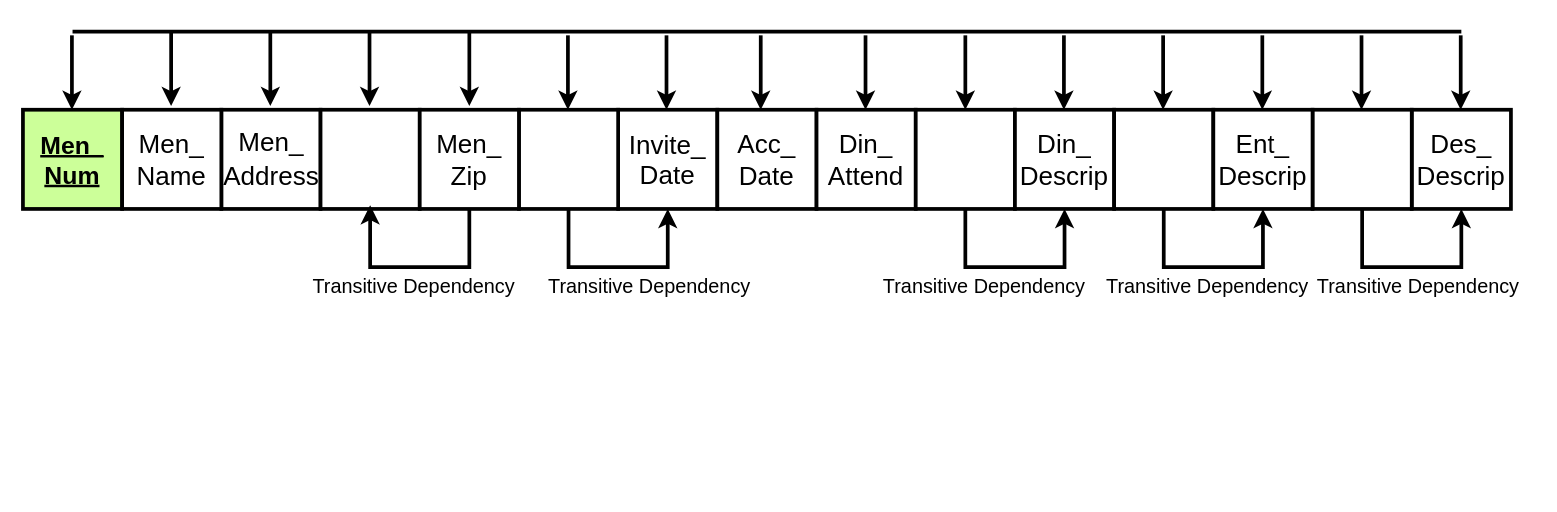
Image size: 1557x512. Some labels were removed from this diagram. The shapes that lost their labels are listed below. From the top down, each one's centre as x and y in pixels, then its label:
[369,158]: Men_ City
[567,158]: Invite_ Num
[964,158]: Din_ Code
[1163,158]: Ent_ Code
[1361,158]: Des_ Code
